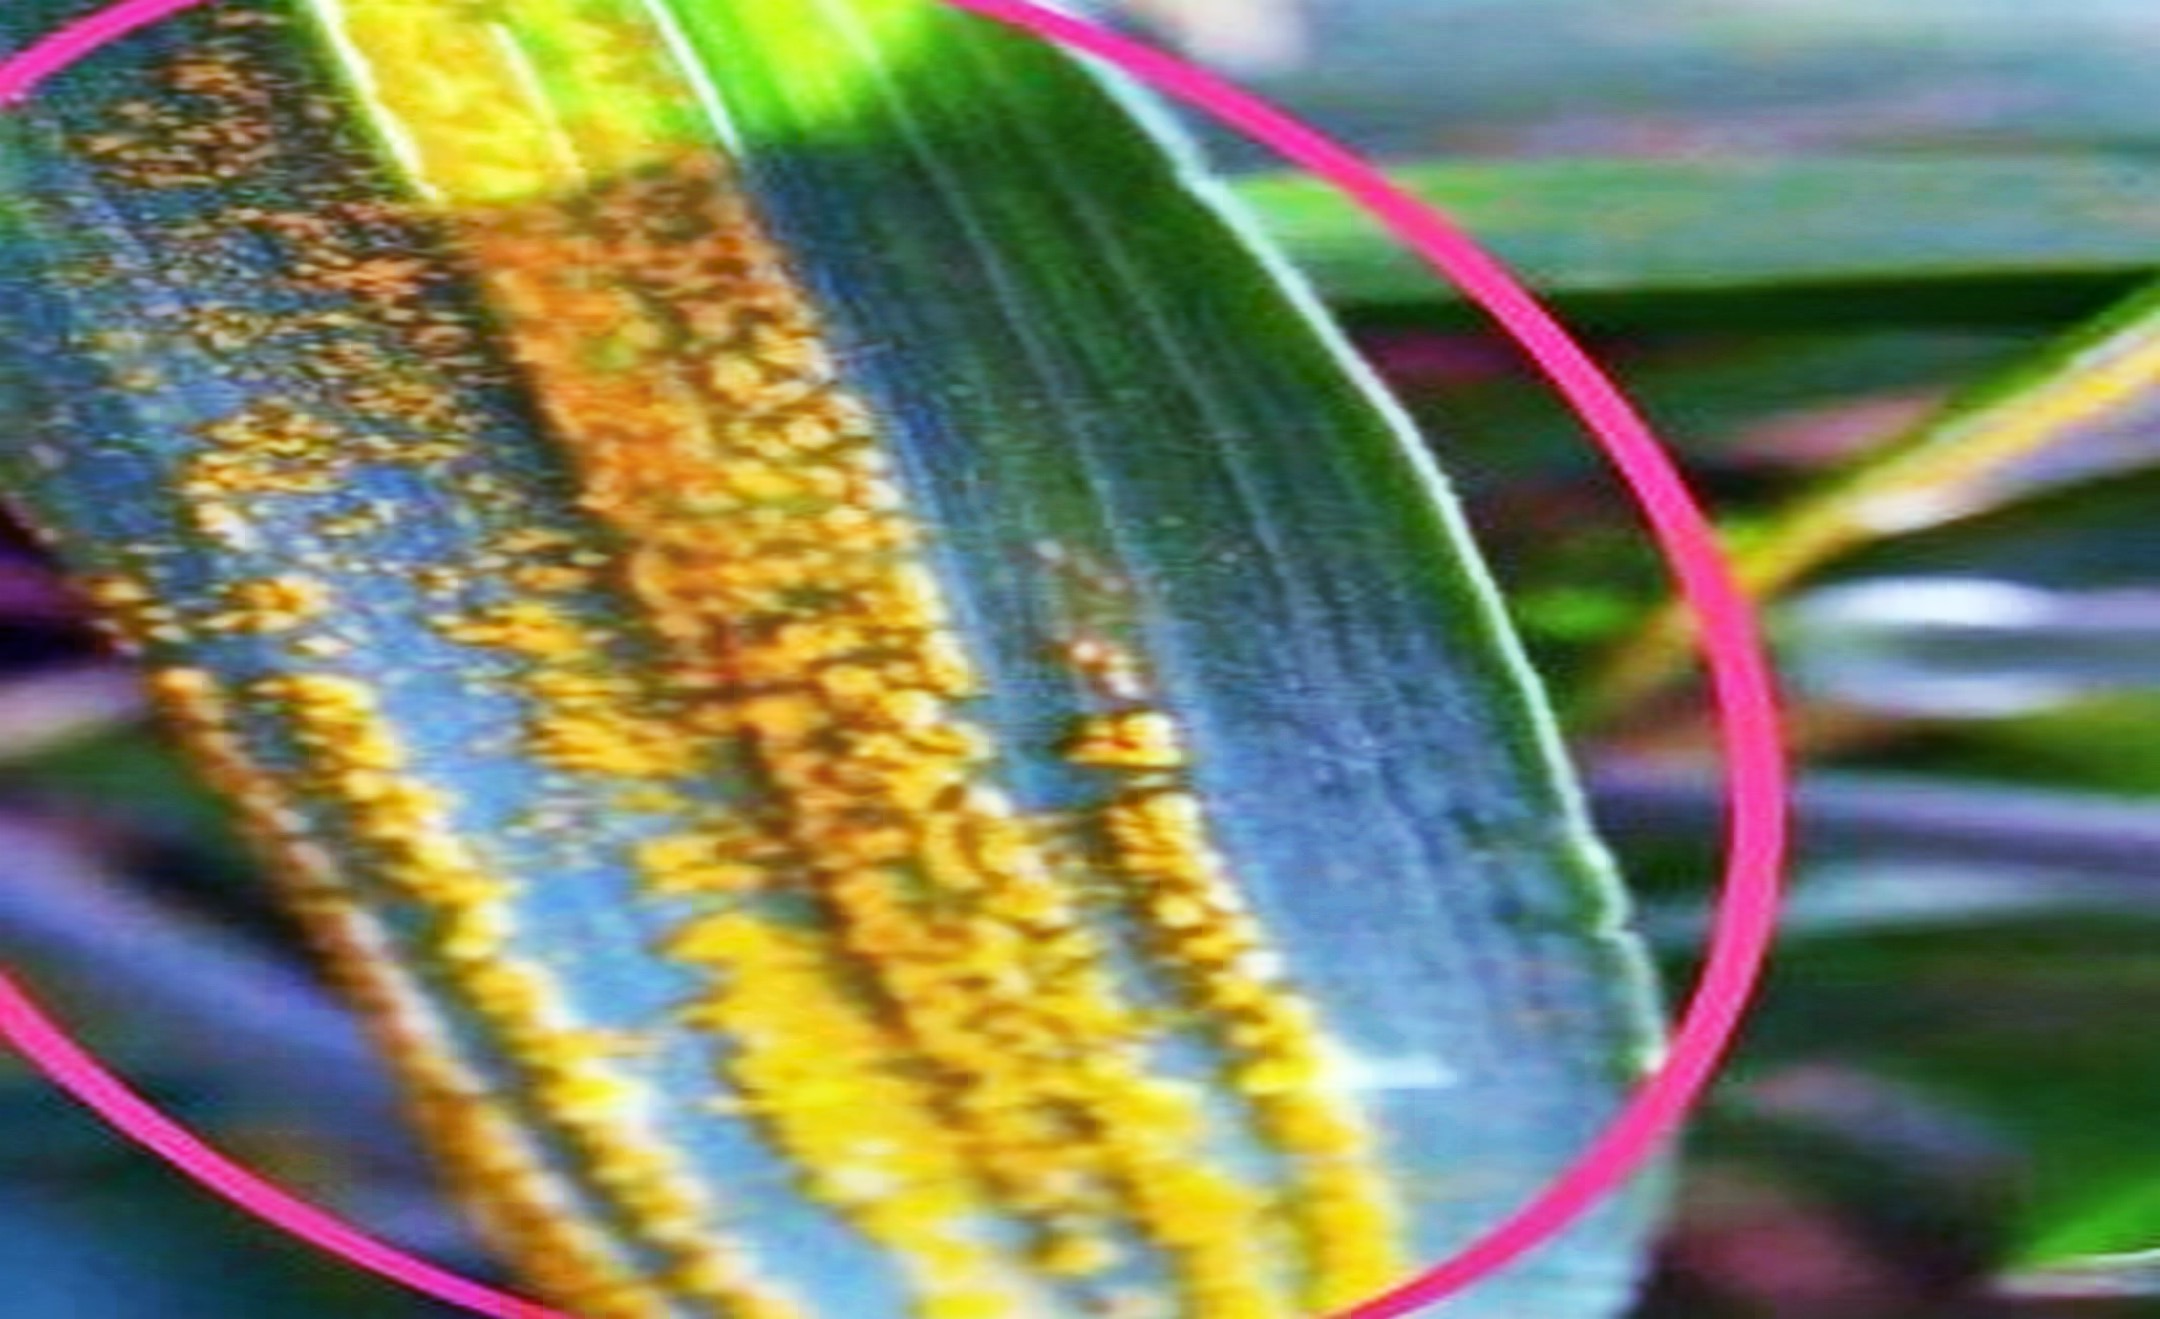Leaf Rust: (176, 228, 1331, 1060)
